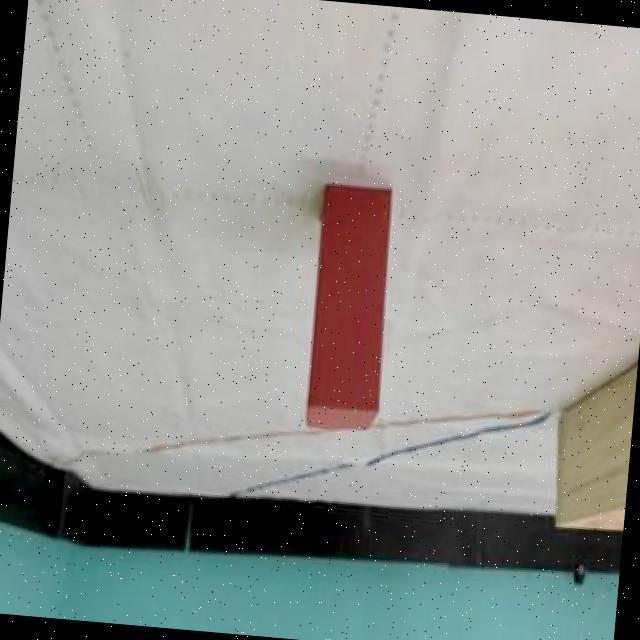redbox: (299, 182, 396, 436)
